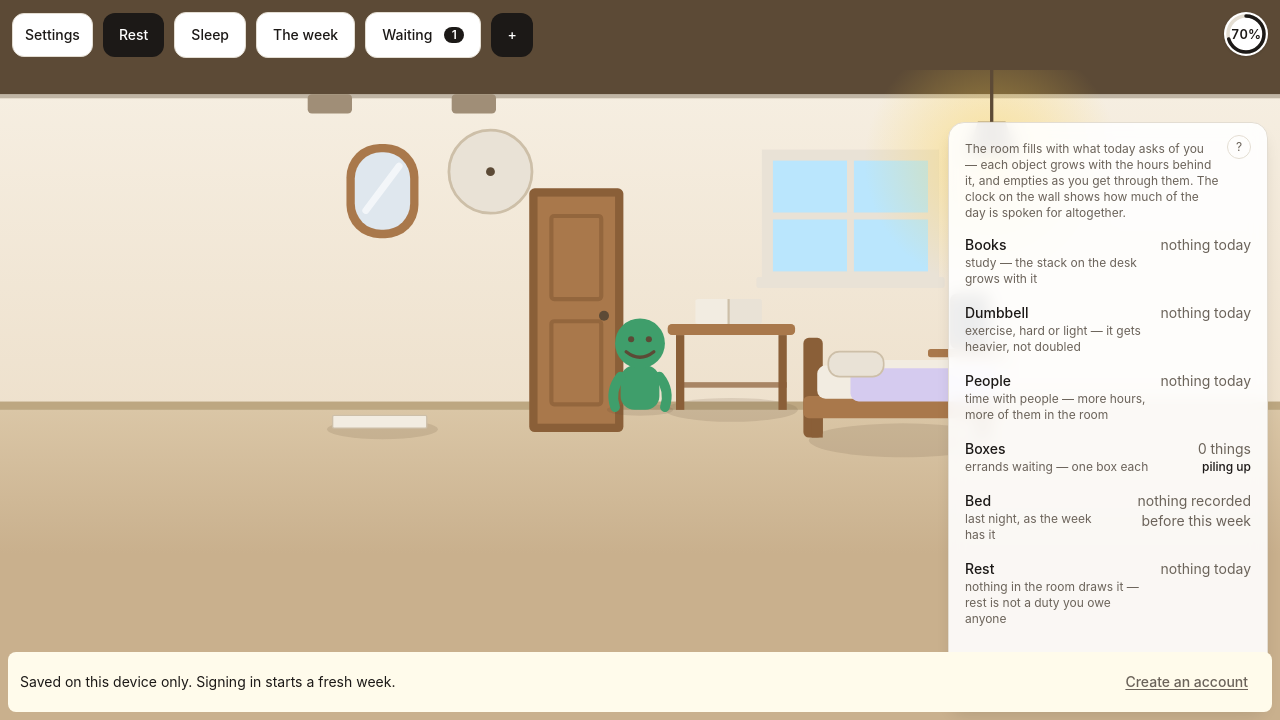
the week, as a sheet over the room › opens as a dialog rather than replacing the room with a page
This screenshot has width=1280, height=720.
What coordinates should you click on to do the following:
click the button with test id "open-week"
I would click on:
 (306, 35)
Its box is 256,12 -> 355,58.
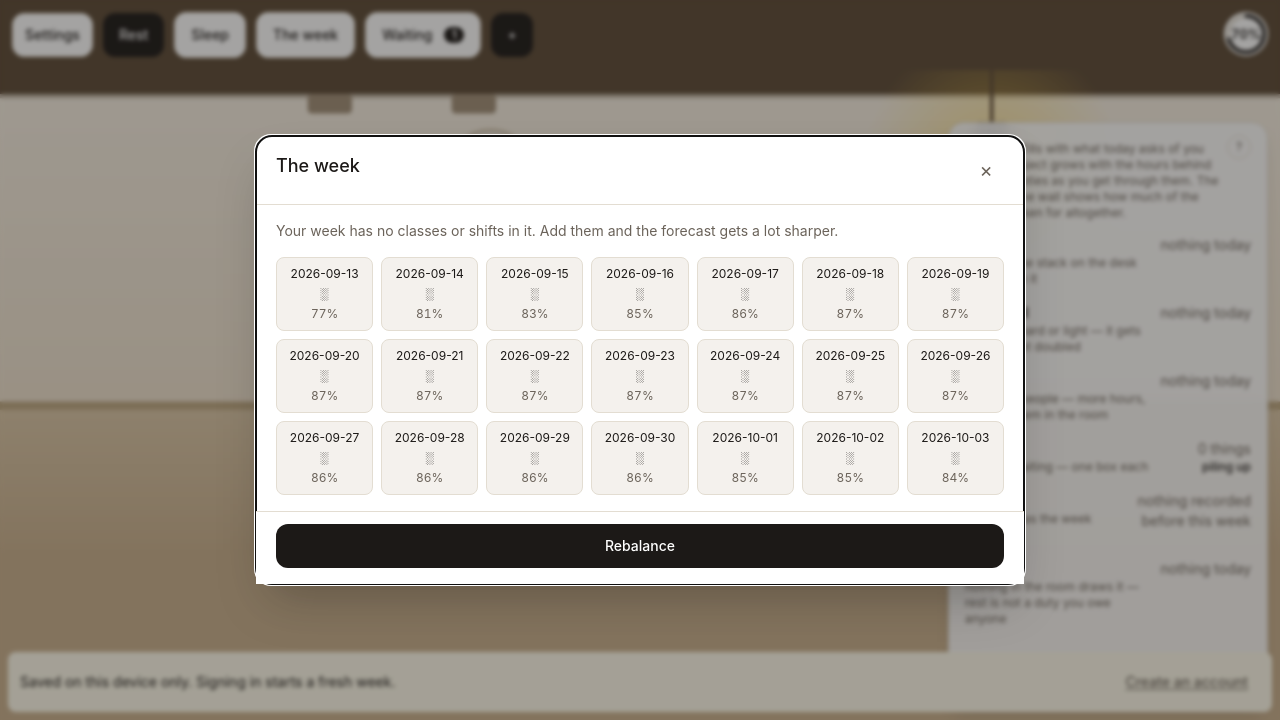
Expected: the dialog "The week" is shown, 256,136 -> 1024,584
